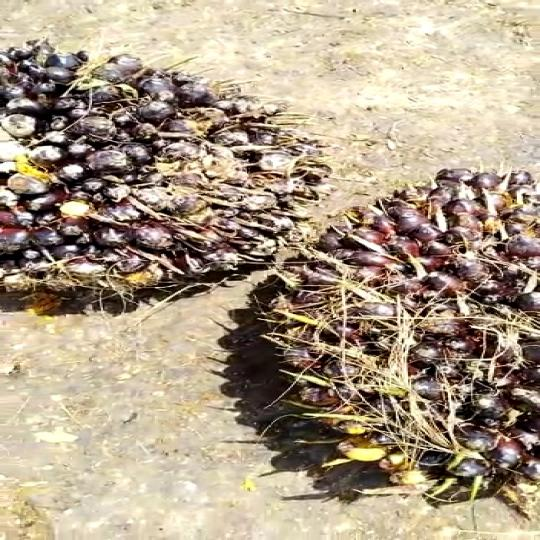mentah: (238, 158, 540, 525), (0, 37, 301, 300)
